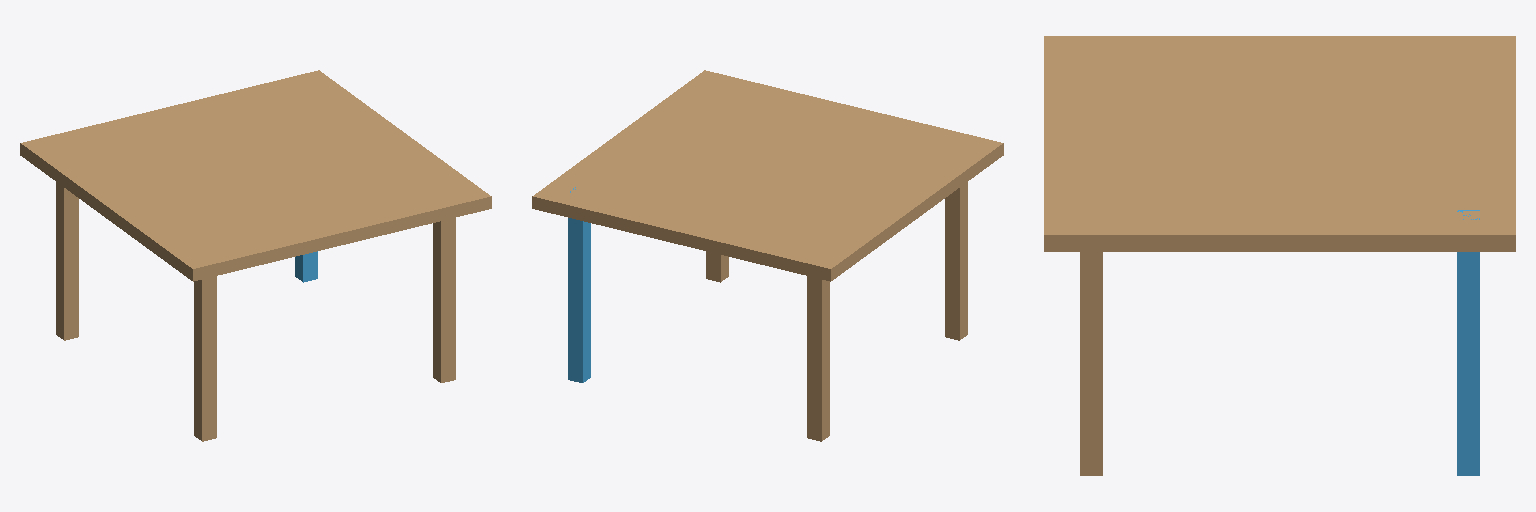
The robot description file, URDF, robot "urdf_table":
<?xml version="1.0" ?>
<robot name="urdf_table">
 <link name="world"/>
  <joint name="fixed" type="fixed">
    <parent link="world"/>
    <child link="baseLink"/>
    <origin xyz="0 0 0"/>
  </joint>

  <link name="baseLink">
    <inertial>
      <origin rpy="0 0 0" xyz="0 0 0.29"/>
       <mass value="0"/>
       <inertia ixx="0.1" ixy="0" ixz="0" iyy="0.1" iyz="0" izz="0.1"/>
    </inertial>
    <visual>
      <origin rpy="0 0 0" xyz="0 0 0.29"/>
      <geometry>
	      <!-- <mesh filename="table.obj" scale="1 1 0.08"/> -->
          <box size="0.5 0.5 0.02"/>
      </geometry>
	    <material name="framemat0">
      <color rgba="0.8 0.66 0.49 1" />
      </material>
    </visual>
    <visual>
      <origin rpy="0 0 0" xyz="-0.20 -0.20 0.15"/>
      <geometry>
        <box size="0.025 0.025 0.30"/>
      </geometry>
	  <material name="framemat0"/>	 
    </visual>
    <visual>
      <origin rpy="0 0 0" xyz="-0.20 0.20 0.15"/>
      <geometry>
        <box size="0.025 0.025 0.30"/>
      </geometry>
	  <material name="framemat0"/>
	  </visual>
    <visual>
      <origin rpy="0 0 0" xyz="0.20 -0.20 0.15"/>
      <geometry>
        <box size="0.025 0.025 0.30"/>
      </geometry>
	  <material name="framemat0"/>
	  </visual>
    <visual>
      <origin rpy="0 0 0" xyz="0.20 0.20 0.15"/>
      <geometry>
        <box size="0.025 0.025 0.30"/>
      </geometry>
    </visual>
    <collision>
      <origin rpy="0 0 0" xyz="0 0 0.29"/>
      <geometry>
          <box size="0.5 0.5 0.02"/>
      </geometry>
    </collision>    
  </link>
</robot>

--- What the picture shows (computed from the rendered views, not written in the file) ---
Views: 3 orthographic renders of the robot side by side, from view 1: azimuth 30°, elevation 25°; view 2: azimuth 150°, elevation 25°; view 3: azimuth 270°, elevation 25°.
Model urdf_table with 2 links and 1 joints (1 fixed), rooted at world, posed every joint at zero.
Links seen in each view (by area): view 1: baseLink; view 2: baseLink; view 3: baseLink.
Link boxes in pixels (x1,y1,x2,y2): baseLink: (20,70,491,441); baseLink: (532,70,1003,441); baseLink: (1044,36,1515,475).
Bounding box of the posed robot: 0.5 × 0.5 × 0.3 m (x, y, z).
Geometry: primitives only (box / cylinder / sphere), no mesh files.
